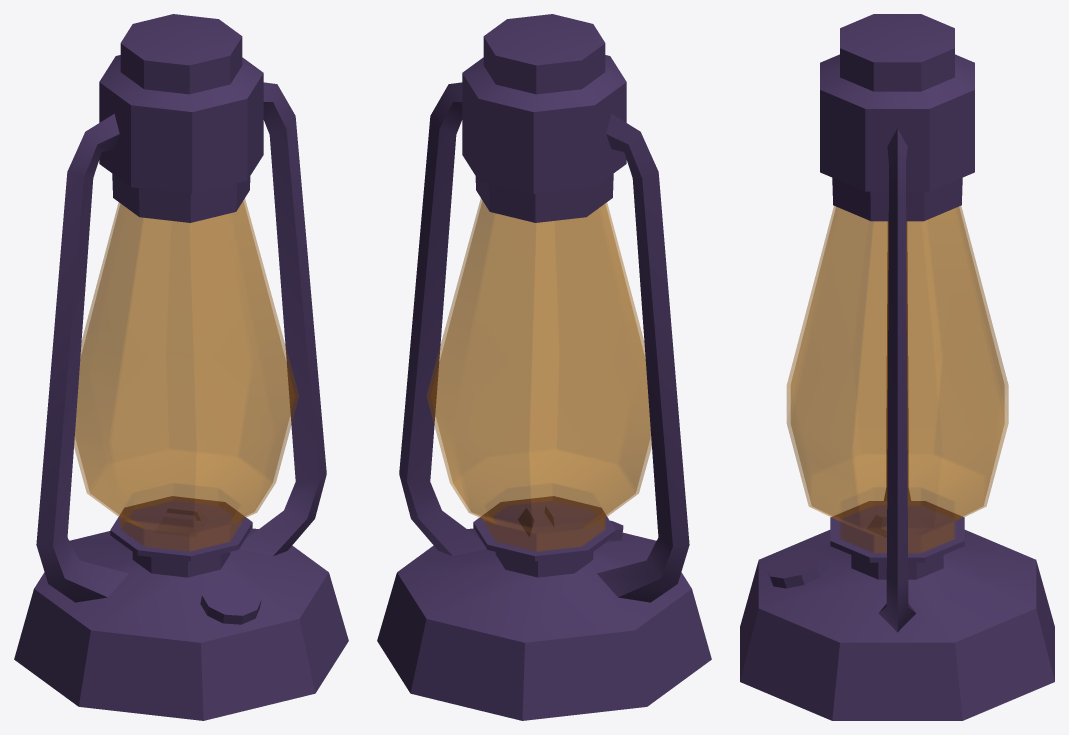
The model's file is 74341bcc-6913-4b51-a613-7902416fb3e4.glb.
3 views of the same model, side by side, from view 1: azimuth 30°, elevation 25°; view 2: azimuth 150°, elevation 25°; view 3: azimuth 270°, elevation 25° (orthographic).
Parts seen in each view (by area): view 1: KeroseneLantern; view 2: KeroseneLantern; view 3: KeroseneLantern.
Boxes of the visible parts, x1,y1,x2,y2 form: KeroseneLantern: [14, 14, 348, 720]; KeroseneLantern: [377, 14, 711, 720]; KeroseneLantern: [740, 14, 1054, 720].
Size of the model in its own units: 0.2028 by 0.4117 by 0.1887.
2 materials, 2 textured.
